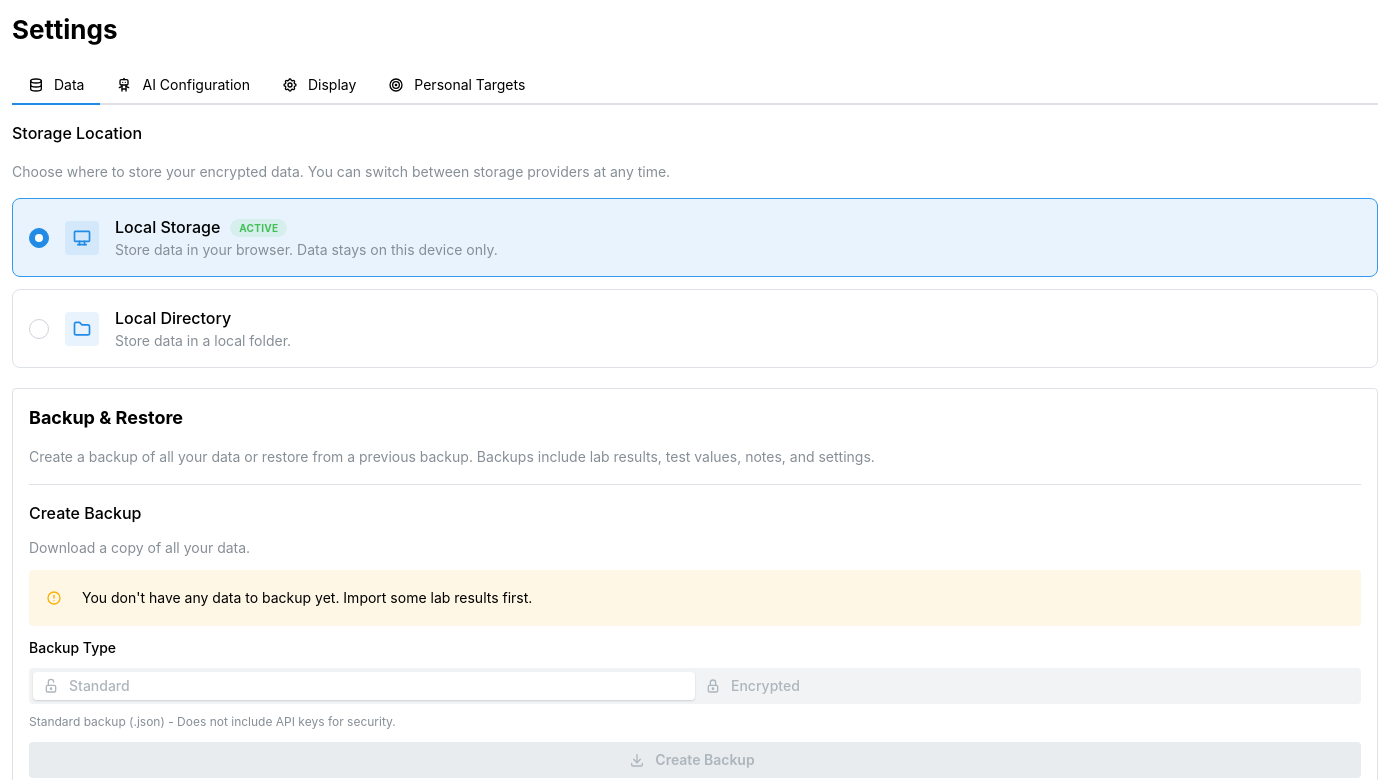
Test: SettingsPage › tab navigation › should switch to Display tab when clicked
Click the tab "Display". click: [319, 86]
box: x1=266 y1=67 x2=372 y2=105
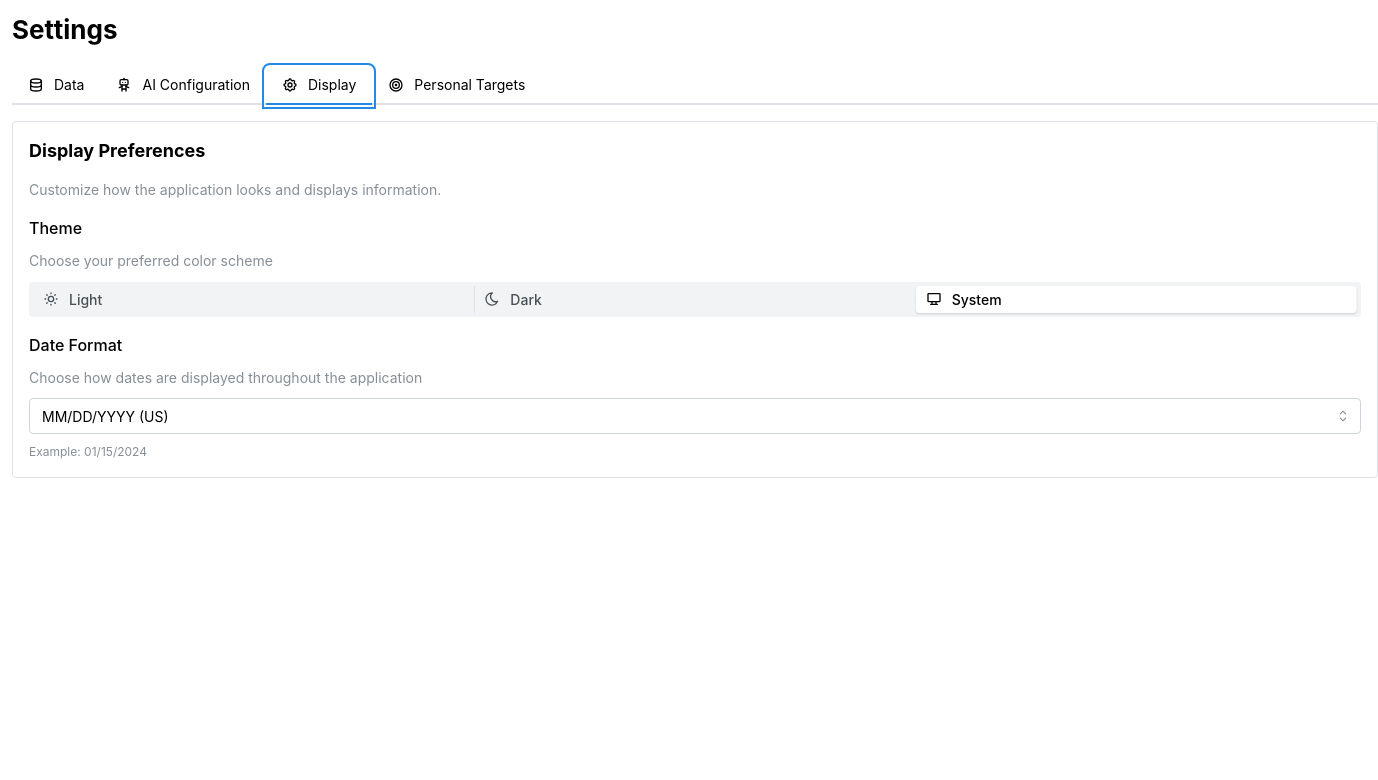
Check: the heading "Display Preferences" is shown, box x1=29 y1=140 x2=205 y2=161
